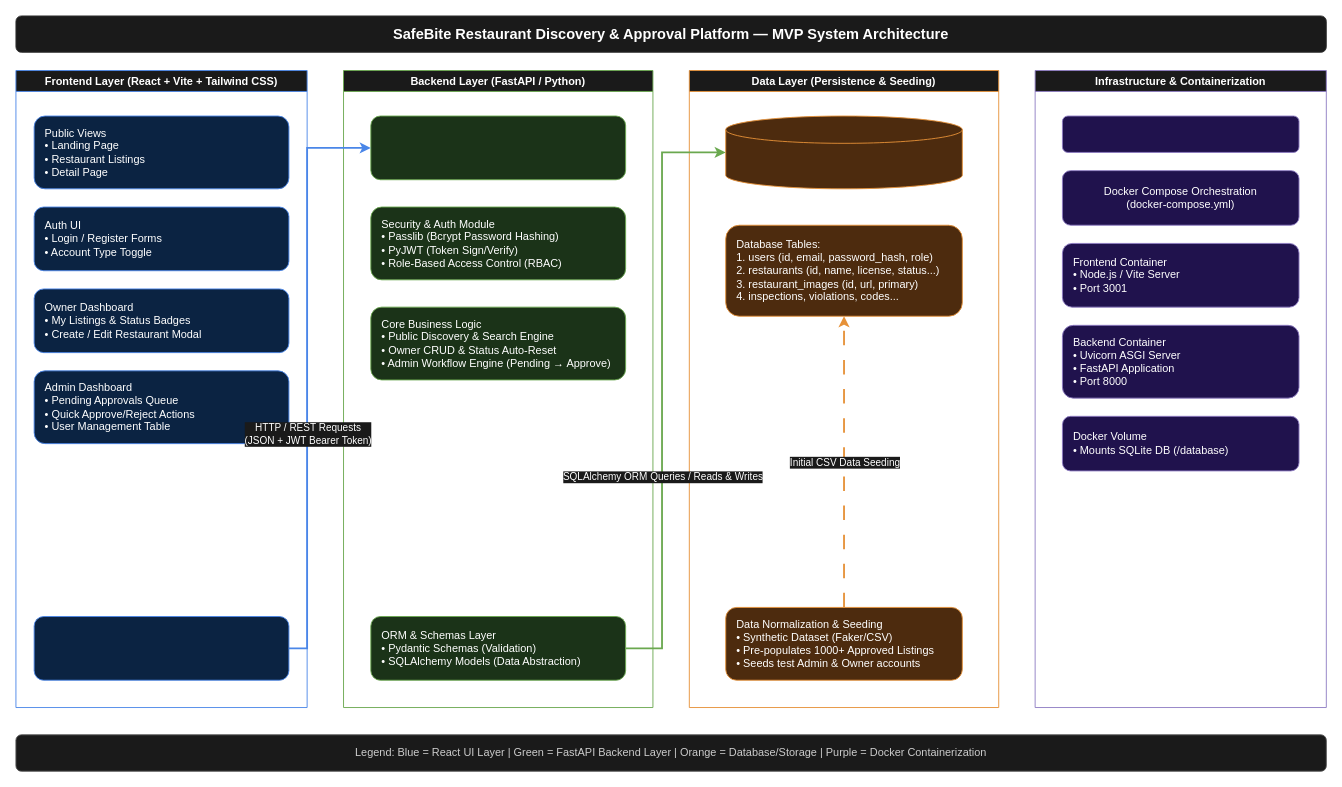
Some shapes in this 1342 by 787 pixel diagram are drawn without their labels. Here are the shapes that lost their labels. From the top down, the centre of each, then its label:
At (x=498, y=147): "API Router (/api) • /auth/ • /restaurants/ • /users/ • /admin/".
At (x=843, y=152): "SQLite Database (safebite.db) PostgreSQL-Ready via SQLAlchemy".
At (x=1180, y=133): "Docker Engine".
At (x=161, y=648): "State & API Layer • AuthContext (JWT State) • Axios API Service (api.js)".
